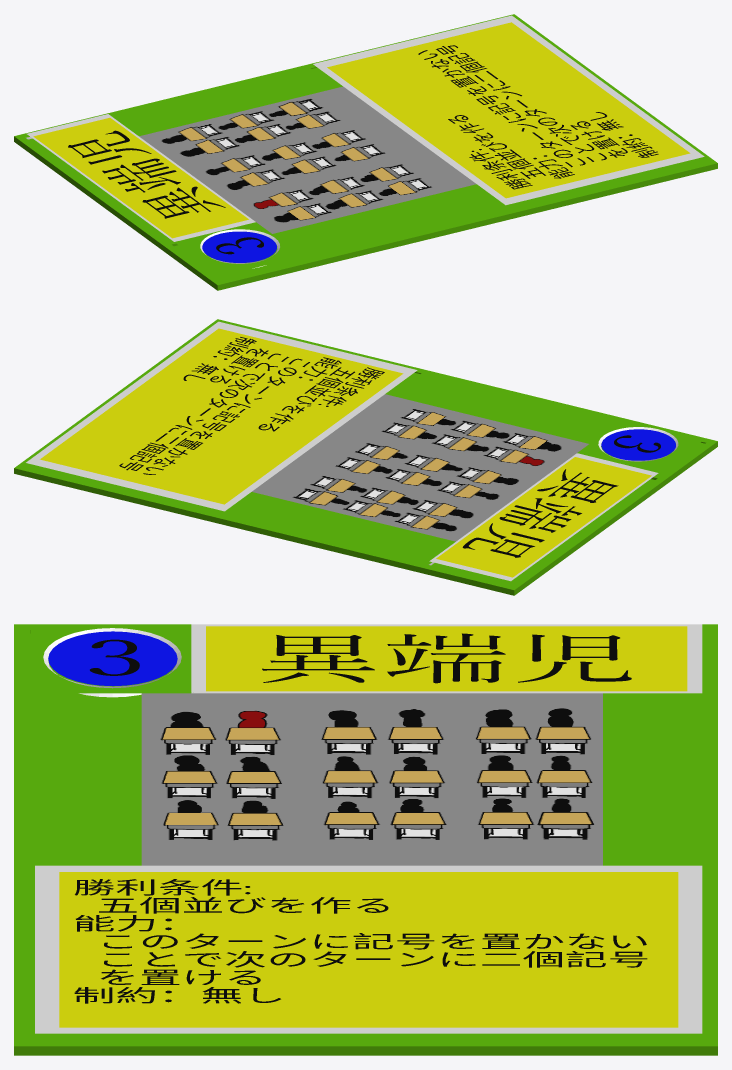
Rendered from 異端児緑.fbx.
3 renders of one model, top to bottom at view 1: azimuth 30°, elevation 25°; view 2: azimuth 150°, elevation 25°; view 3: azimuth 270°, elevation 25°, orthographic. The views are drawn at different scales.
Visible parts, largest first — view 1: 説明欄, 平面.001, カード本体.001, 名前欄, 説明文, 名前, 円, 平面; view 2: 説明欄, 平面.001, カード本体.001, 名前欄, 説明文, 名前, 円, 平面; view 3: 説明欄, 平面.001, カード本体.001, 名前欄, 説明文, 名前, 円, 平面, コスト蘭.
Boxes of the visible parts, left/top/right/bottom form: 説明欄: left=313, top=15, right=704, bottom=205; 平面.001: left=139, top=86, right=476, bottom=233; カード本体.001: left=14, top=14, right=717, bottom=290; 名前欄: left=27, top=114, right=255, bottom=241; 説明文: left=418, top=45, right=658, bottom=189; 名前: left=68, top=130, right=225, bottom=218; 円: left=202, top=231, right=276, bottom=262; 平面: left=174, top=222, right=302, bottom=275; 説明欄: left=26, top=321, right=417, bottom=511; 平面.001: left=252, top=394, right=588, bottom=541; カード本体.001: left=14, top=319, right=717, bottom=595; 名前欄: left=429, top=453, right=658, bottom=581; 説明文: left=119, top=337, right=384, bottom=474; 名前: left=462, top=469, right=618, bottom=557; 円: left=601, top=429, right=675, bottom=460; 平面: left=577, top=419, right=704, bottom=472; 説明欄: left=35, top=865, right=702, bottom=1033; 平面.001: left=141, top=693, right=602, bottom=865; カード本体.001: left=14, top=624, right=717, bottom=1055; 名前欄: left=191, top=624, right=702, bottom=693; 説明文: left=74, top=879, right=647, bottom=1003; 名前: left=262, top=633, right=631, bottom=683; 円: left=48, top=631, right=177, bottom=686; 平面: left=30, top=624, right=191, bottom=693; コスト蘭: left=43, top=628, right=181, bottom=697.
Size of the model in its own units: 281 by 6.07 by 198.
